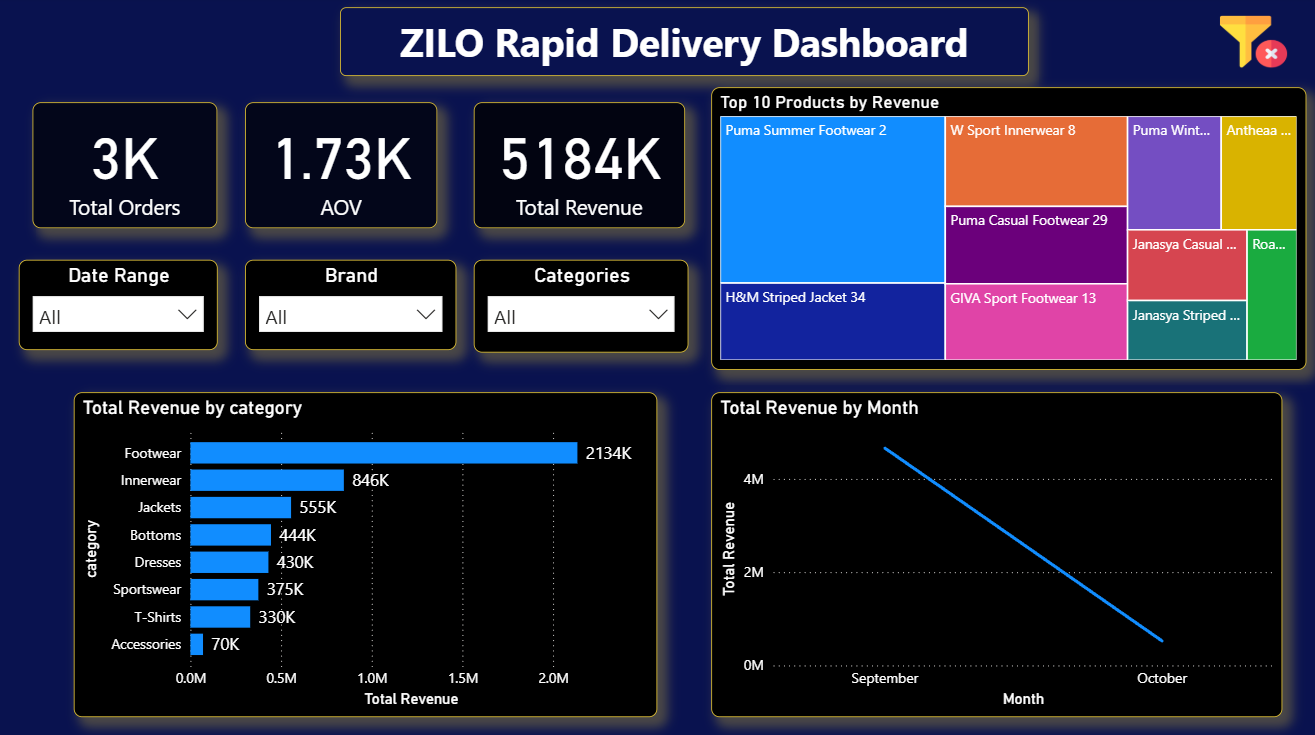

The dashboard page shown, as its layout file describes it:
{"tool":"powerbi","page":{"name":"Page 1","canvas":[1280,720],"ordinal":0},"visuals":[{"type":"card","fields":{"Values":["orders_clean.Total Orders"]},"box":[36.2,102.5,178.6,121.9],"z":0},{"type":"card","fields":{"Values":["orders_clean.Total Revenue"]},"box":[462.1,102.5,203.9,121.9],"z":1},{"type":"lineChart","fields":{"Y":["orders_clean.Total Revenue"],"Category":["orders_clean.order_date.Variation.Date Hierarchy.Month","orders_clean.order_date.Variation.Date Hierarchy.Day"]},"box":[679.2,382.4,551.3,313.7],"z":5},{"type":"textbox","box":[333,10.9,664.7,66.4],"z":6},{"type":"image","box":[160.5,10.9,160.5,66.4],"z":7},{"type":"barChart","fields":{"Category":["products_clean.category"],"Y":["orders_clean.Total Revenue"]},"box":[76,382.4,563.4,313.7],"z":8},{"type":"treemap","title":"Top 10 Products by Revenue","fields":{"Group":["top_products_by_revenue.product_name"],"Values":["orders_clean.Total Revenue"]},"box":[691.3,88.1,574.3,272.7],"z":9},{"type":"slicer","title":"Date Range","fields":{"Values":["orders_clean.order_date"]},"box":[22.9,254.6,191.8,86.9],"z":10},{"type":"slicer","title":"Categories","fields":{"Values":["products_clean.category"]},"box":[462.1,254.6,207.5,89.3],"z":11},{"type":"slicer","title":"Brand","fields":{"Values":["products_clean.brand"]},"box":[241.3,254.6,203.9,86.9],"z":12},{"type":"image","box":[1177.5,10.9,74.8,66.4],"z":13},{"type":"card","fields":{"Values":["orders_clean.AOV"]},"box":[241.3,102.5,185.8,121.9],"z":14}]}

Visuals, with their boxes in screenshot pixels (x1, y1, x2, y2), scaled from the page's 1280x720 canvas onto the 1315x735 screenshot:
card - orders_clean.Total Orders: pyautogui.locateOnScreen(37, 105, 221, 229)
card - orders_clean.Total Revenue: pyautogui.locateOnScreen(475, 105, 684, 229)
lineChart - orders_clean.Total Revenue x orders_clean.order_date.Variation.Date Hierarchy.Month: pyautogui.locateOnScreen(698, 390, 1264, 711)
textbox: pyautogui.locateOnScreen(342, 11, 1025, 79)
image: pyautogui.locateOnScreen(165, 11, 330, 79)
barChart - products_clean.category x orders_clean.Total Revenue: pyautogui.locateOnScreen(78, 390, 657, 711)
"Top 10 Products by Revenue" treemap: pyautogui.locateOnScreen(710, 90, 1300, 368)
"Date Range" slicer: pyautogui.locateOnScreen(24, 260, 221, 349)
"Categories" slicer: pyautogui.locateOnScreen(475, 260, 688, 351)
"Brand" slicer: pyautogui.locateOnScreen(248, 260, 457, 349)
image: pyautogui.locateOnScreen(1210, 11, 1287, 79)
card - orders_clean.AOV: pyautogui.locateOnScreen(248, 105, 439, 229)
